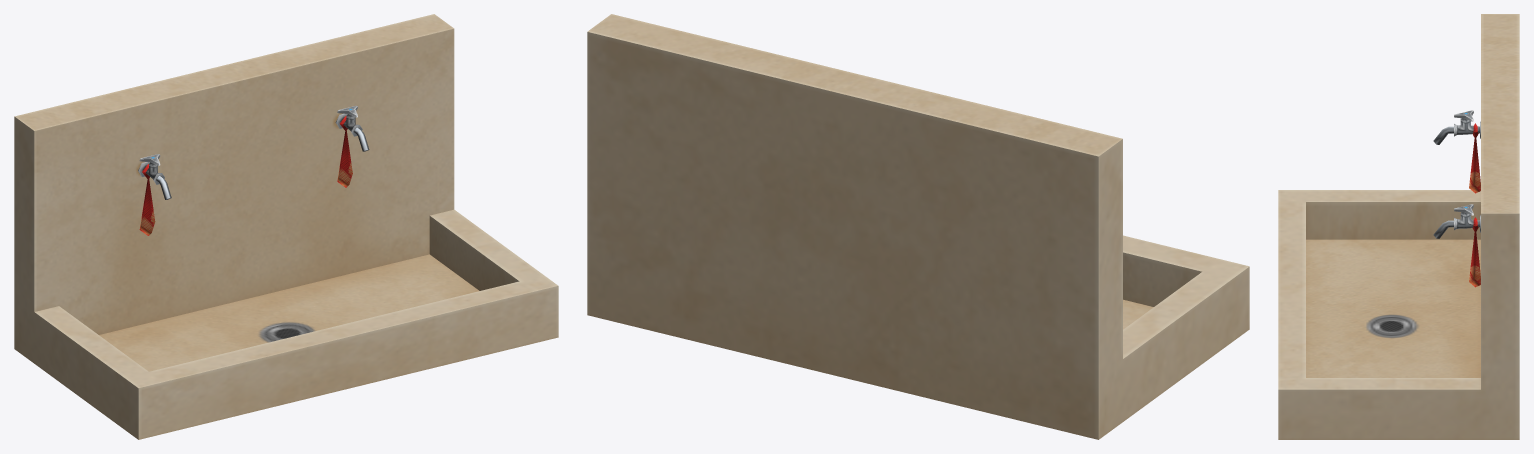
The model's file is set_sink_02.fbx.
The picture shows the model from 3 angles, left to right: view 1: azimuth 30°, elevation 25°; view 2: azimuth 150°, elevation 25°; view 3: azimuth 270°, elevation 25°; orthographic projection. The views are drawn at different scales.
Parts seen in each view (by area): view 1: sink_02; view 2: sink_02; view 3: sink_02.
Part boxes in pixels (x1,y1,x2,y2): sink_02: [14, 14, 558, 439]; sink_02: [587, 14, 1249, 439]; sink_02: [1278, 14, 1519, 439].
Size of the model in its own units: 170 by 90 by 87.
